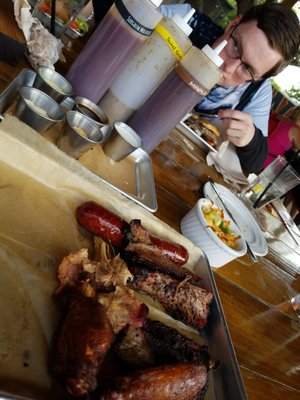pizza: (66, 1, 300, 216), (207, 92, 300, 188)
